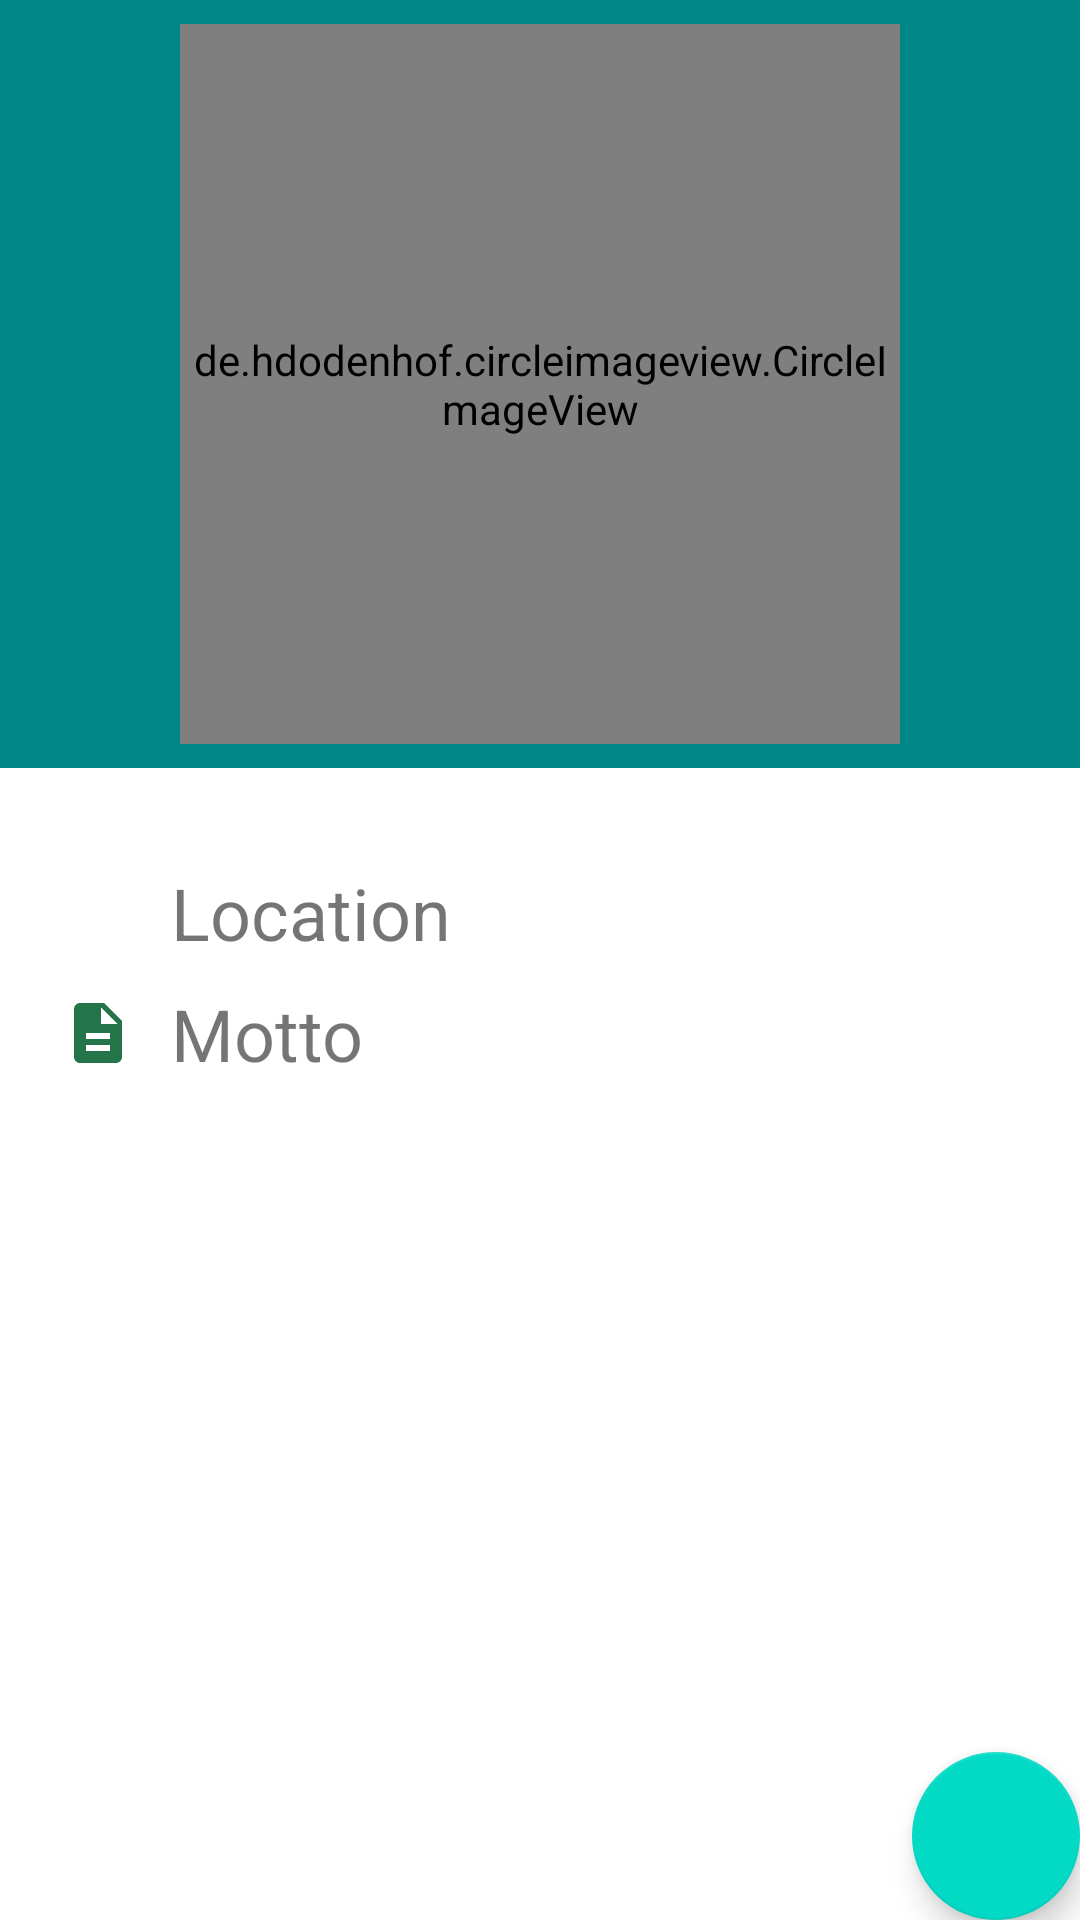

Icons on this 1080w x 1920h Android screen, each with its box as [left=x1, top=y1, right=x2, bottom=y2]:
description: [left=74, top=1003, right=122, bottom=1063]
